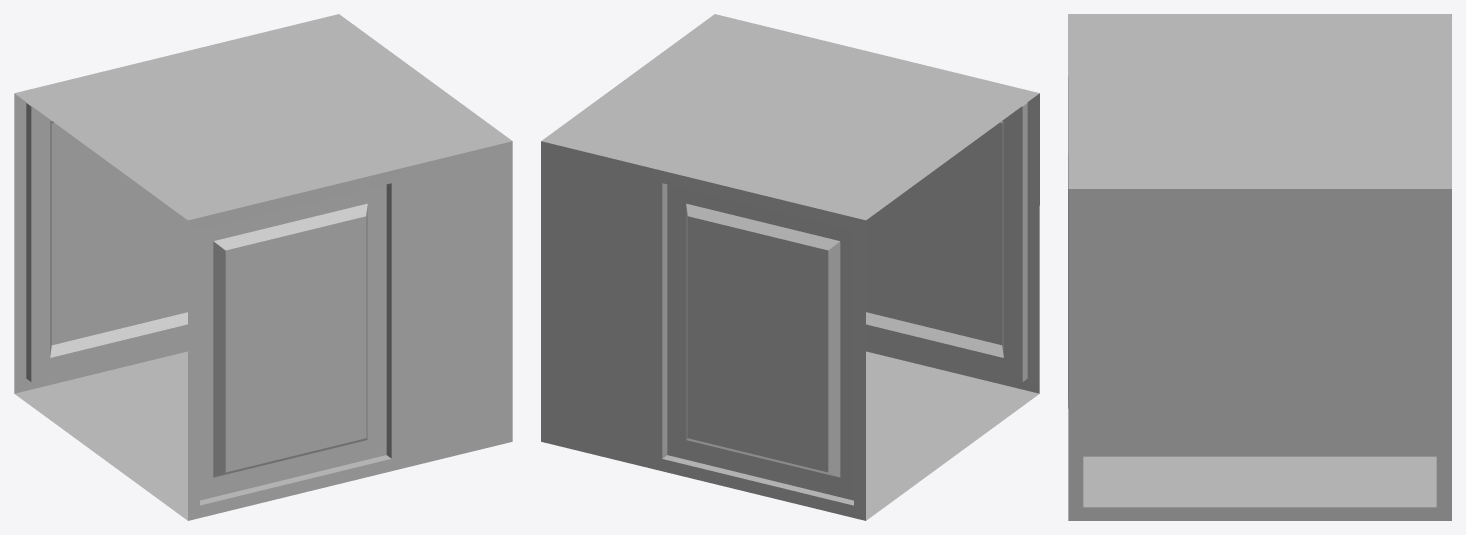
The model's file is Itr_Diningtable_Body_right_06.FBX.
3 views of the same model, side by side, from view 1: azimuth 30°, elevation 25°; view 2: azimuth 150°, elevation 25°; view 3: azimuth 270°, elevation 25° (orthographic). The views are drawn at different scales.
Visible parts, largest first — view 1: Itr_Diningtable_Body_right_06; view 2: Itr_Diningtable_Body_right_06; view 3: Itr_Diningtable_Body_right_06.
Boxes of the visible parts, x1,y1,x2,y2 form: Itr_Diningtable_Body_right_06: [14, 14, 512, 520]; Itr_Diningtable_Body_right_06: [541, 14, 1039, 520]; Itr_Diningtable_Body_right_06: [1068, 14, 1451, 520].
Bounding box in the file's own units: 37.23 × 32.92 × 34.5.
